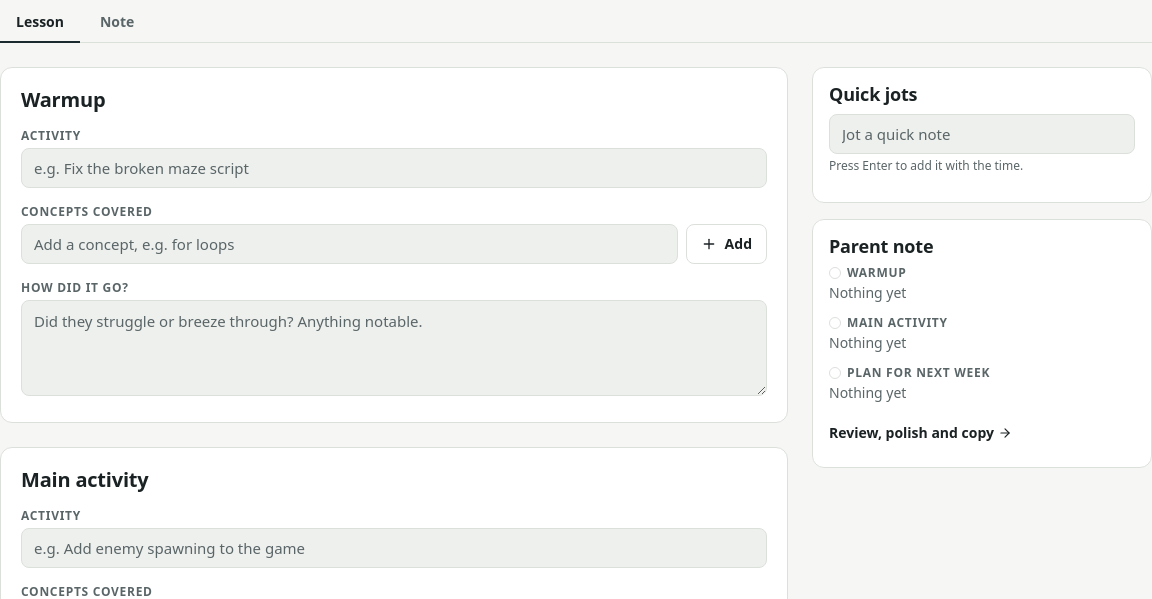
LessonPage › folds a long jot list to the newest two, and shows the rest on request
Type "one" into the field named "Quick jot".
click(982, 134); type("one")  # box [829,114,1135,154]
Then press Enter
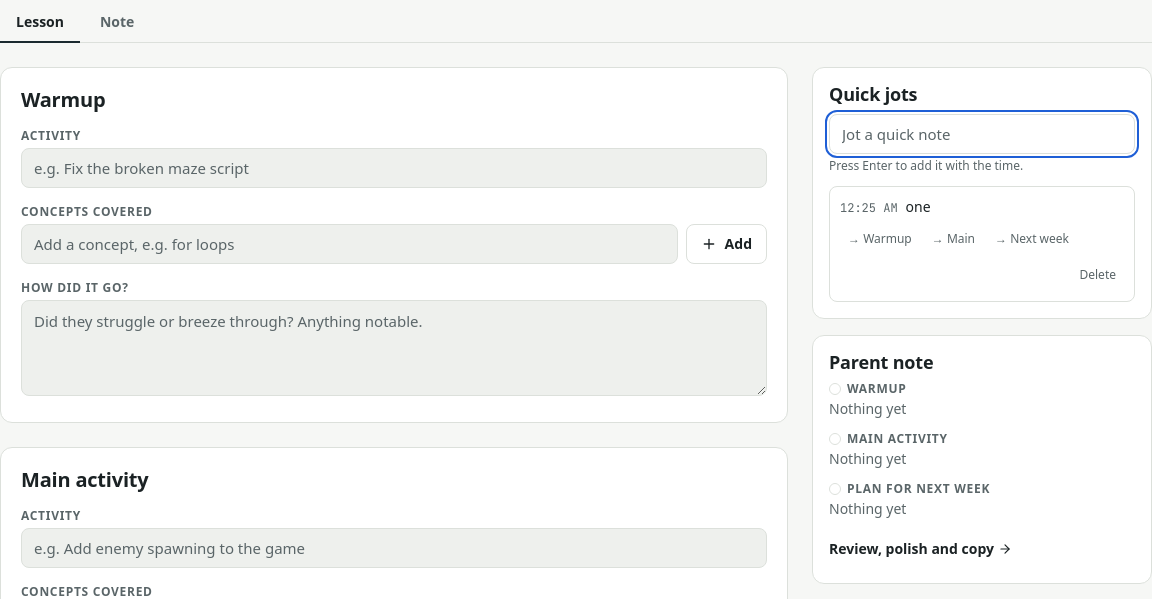
Type "two" into the field named "Quick jot".
click(982, 134); type("two")  # box [829,114,1135,154]
Then press Enter
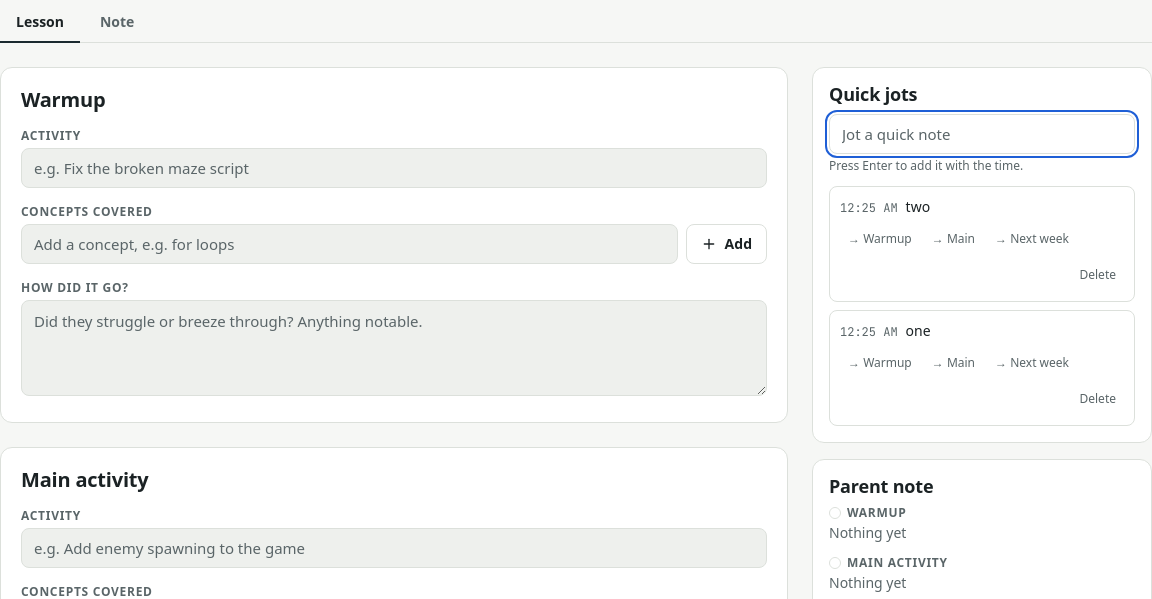
Type "three" into the field named "Quick jot".
click(982, 134); type("three")  # box [829,114,1135,154]
Then press Enter
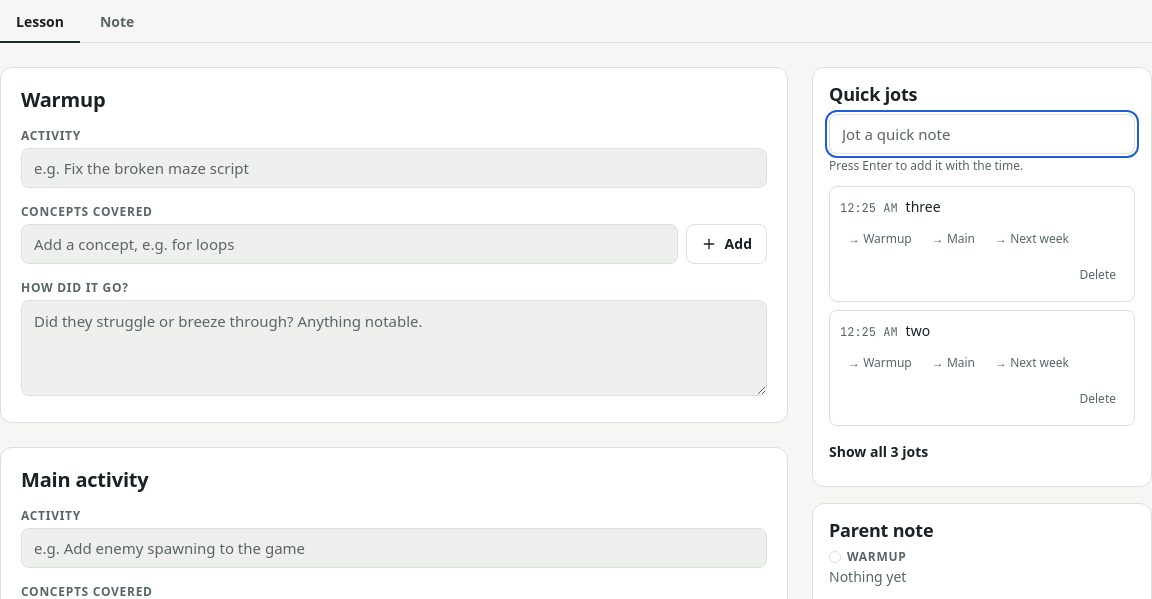
Type "four" into the field named "Quick jot".
click(982, 134); type("four")  # box [829,114,1135,154]
Then press Enter
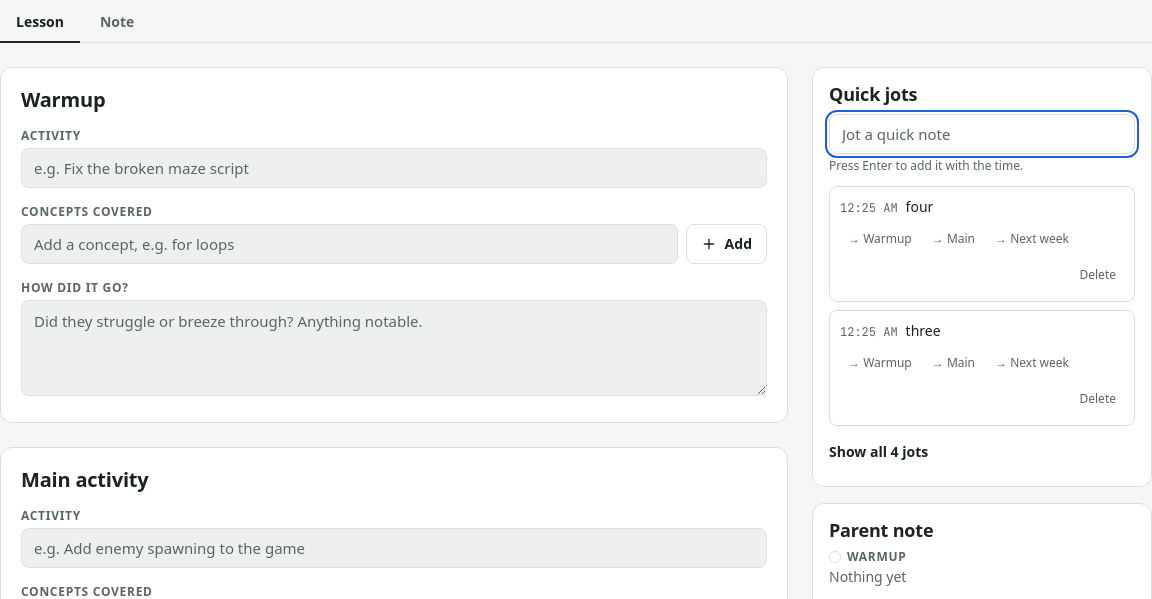
Expected: the button "Show all 4 jots" is shown
Expected: the text "three" is shown, [906,321,941,340]
Expected: the text "four" is shown, [906,197,933,216]
Click the button "Show all 4 jots".
click(879, 452)  # box [829,434,928,470]
(page scrolled)
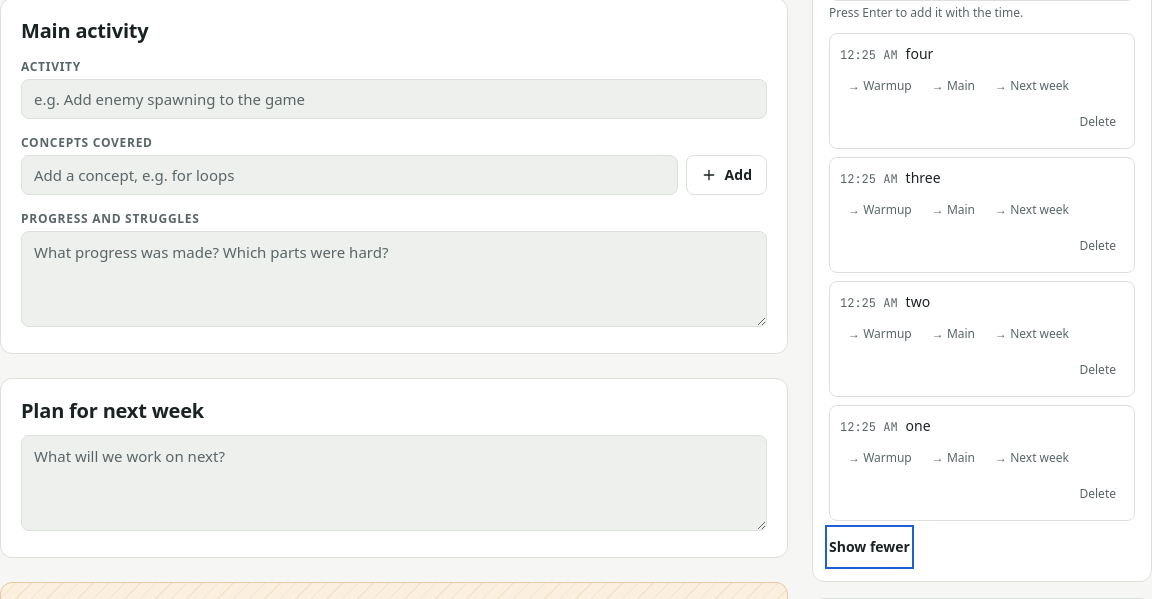
Expected: the text "three" is shown, [906,168,941,187]
Expected: the text "one" is shown, [906,416,931,435]
Expected: the text "two" is shown, [906,292,930,311]
Click the button "Show fewer".
click(870, 547)  # box [829,529,910,565]
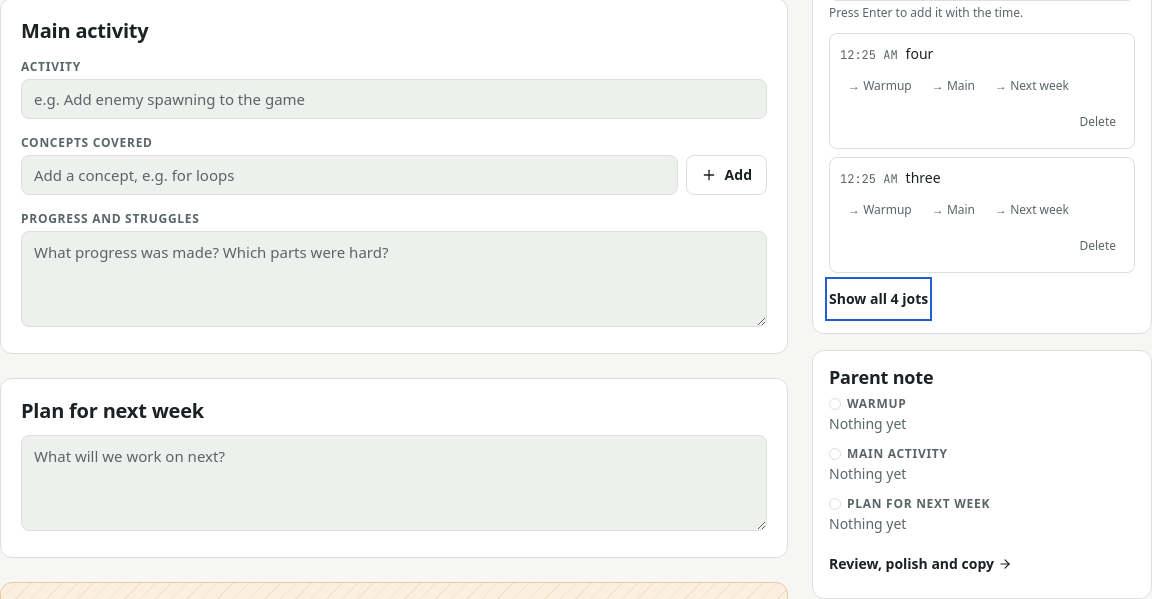
Expected: the text "one" is gone
